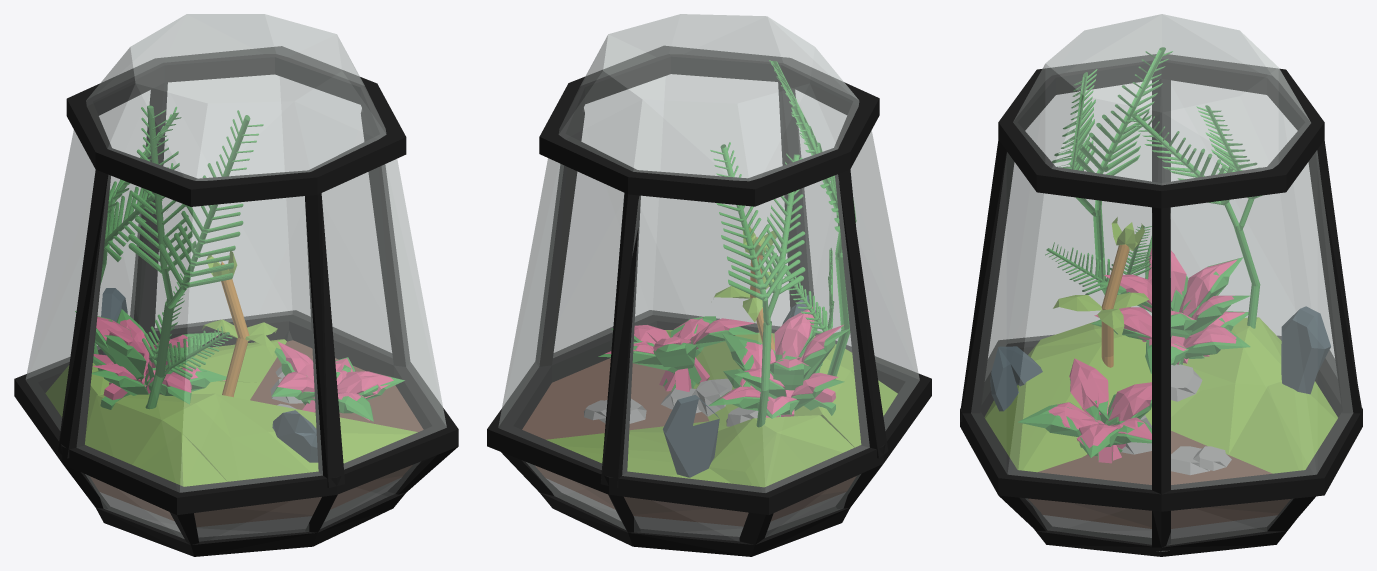
3 renders of one model, left to right at view 1: azimuth 30°, elevation 25°; view 2: azimuth 150°, elevation 25°; view 3: azimuth 270°, elevation 25°, orthographic.
Parts seen in each view (by area): view 1: group1244953278, group372063805; view 2: group1244953278, group372063805; view 3: group1244953278, group372063805.
Part boxes in pixels (x1,y1,x2,y2): group1244953278: (25, 14, 446, 541); group372063805: (14, 46, 458, 556); group1244953278: (498, 14, 919, 540); group372063805: (487, 46, 931, 556); group1244953278: (971, 14, 1352, 551); group372063805: (960, 47, 1362, 556).
Size of the model in its own units: 0.6045 by 0.7166 by 0.6045.
Materials: 2 (2 with a texture image).
